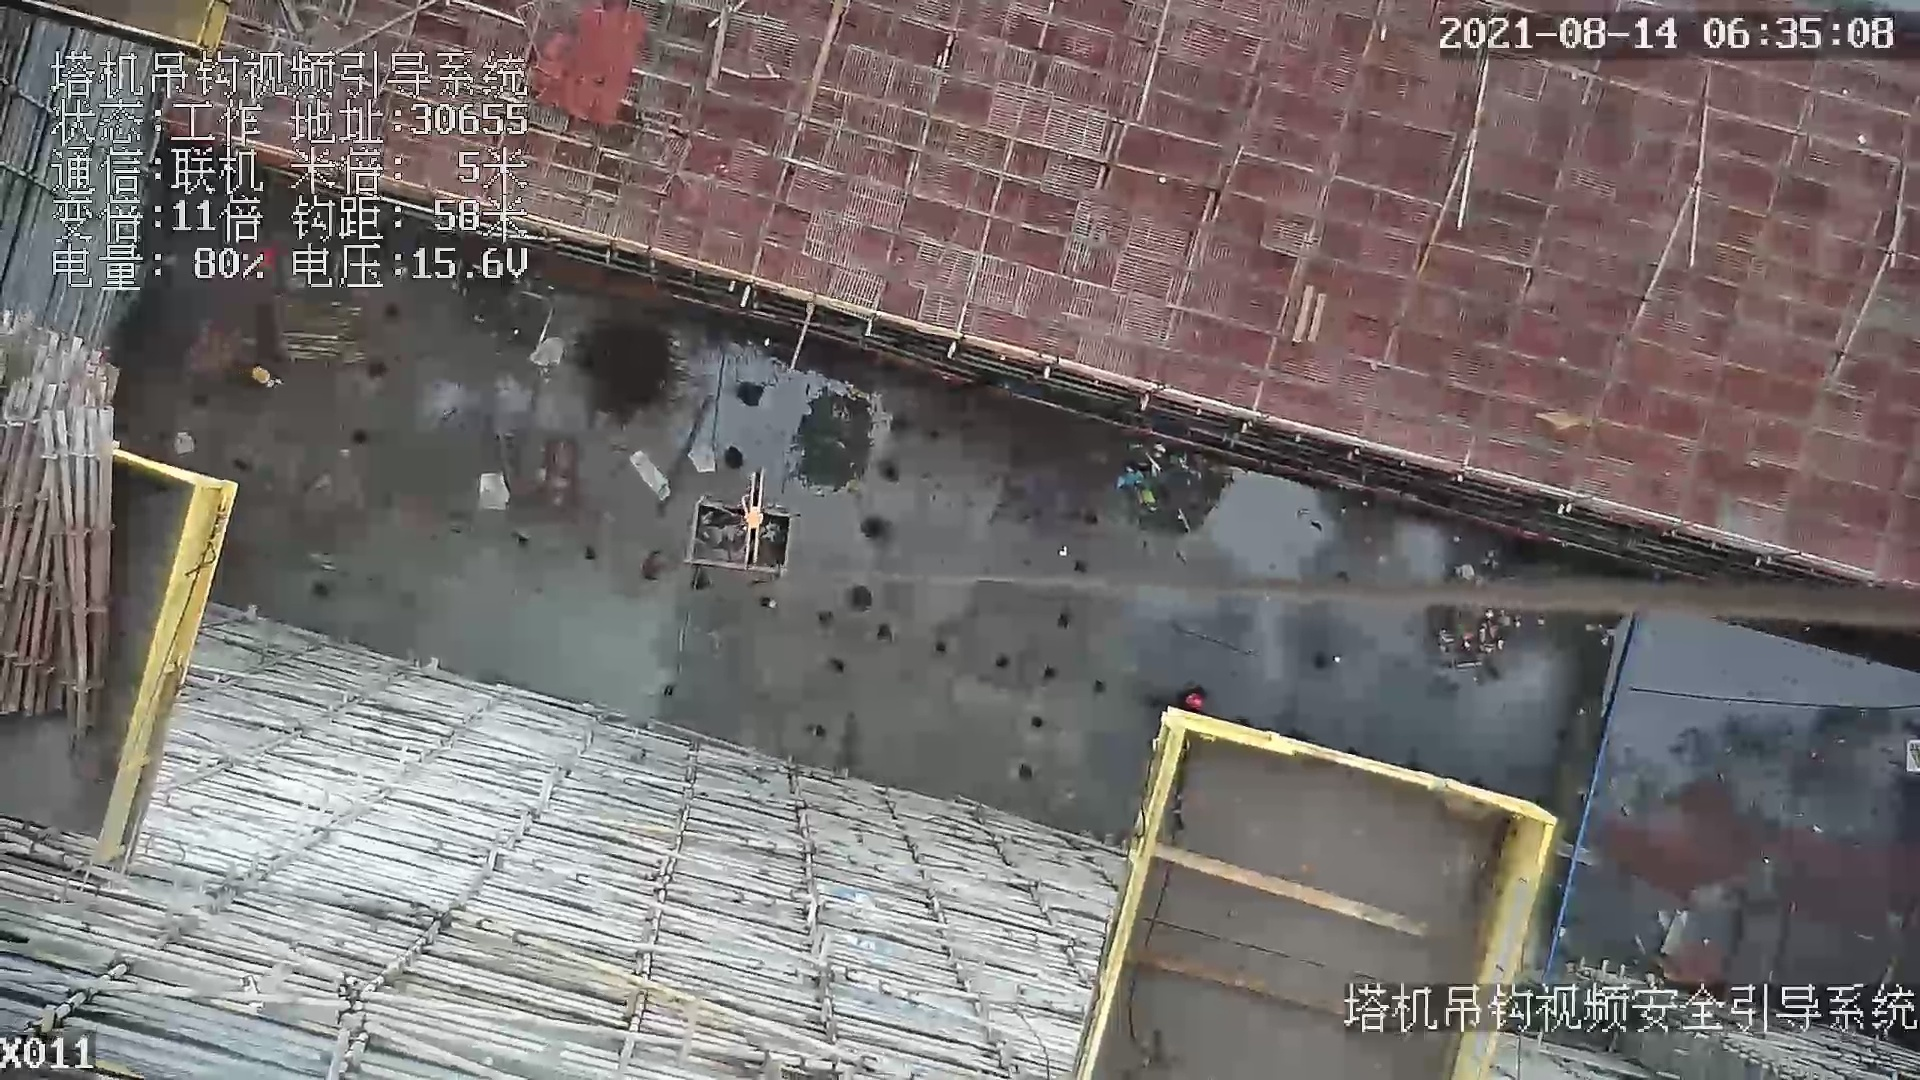helmet: (256, 367, 271, 385), (1188, 693, 1204, 710)
hook: (732, 463, 768, 572)
hopper: (674, 495, 812, 614)
person: (247, 355, 282, 392), (1161, 683, 1204, 711)
scaffold: (1, 310, 122, 717)
